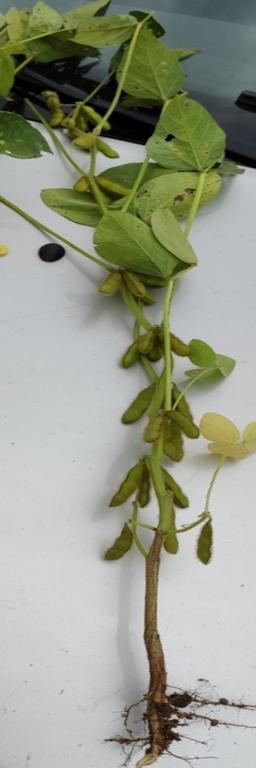pod: (107, 456, 135, 513), (120, 385, 152, 427), (101, 528, 134, 561), (166, 472, 194, 507), (197, 523, 215, 567), (137, 475, 151, 513), (98, 273, 121, 296)
soy: (67, 37, 251, 766)
